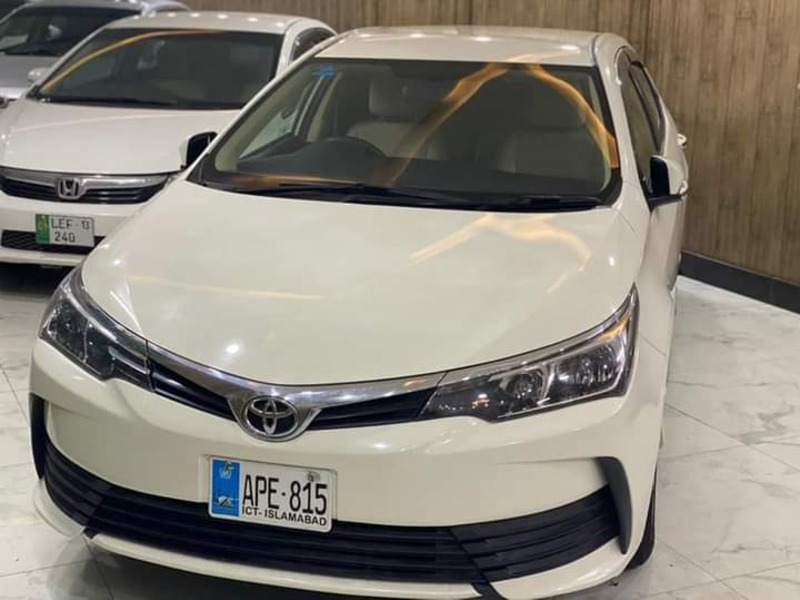License Plate: (203, 456, 339, 537), (31, 211, 98, 255)
